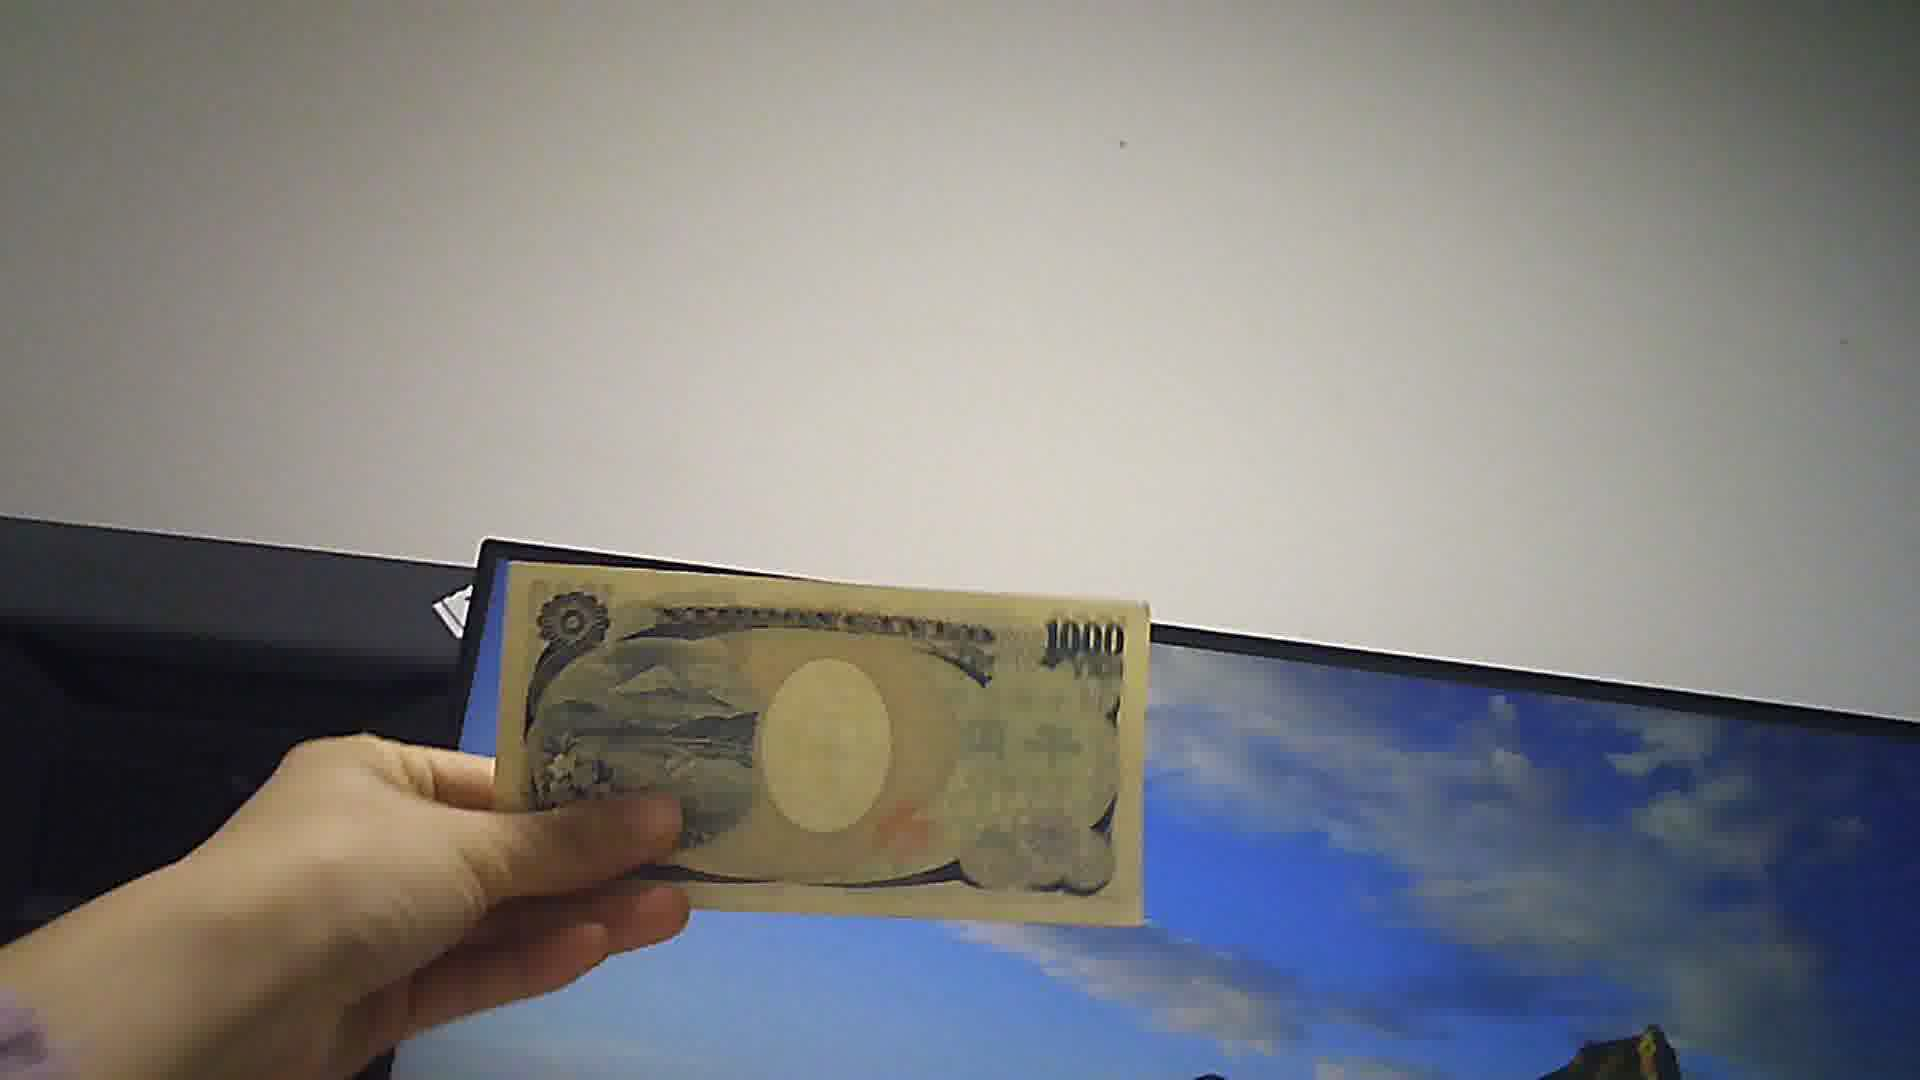1,000 Yen: (487, 556, 1151, 942)
